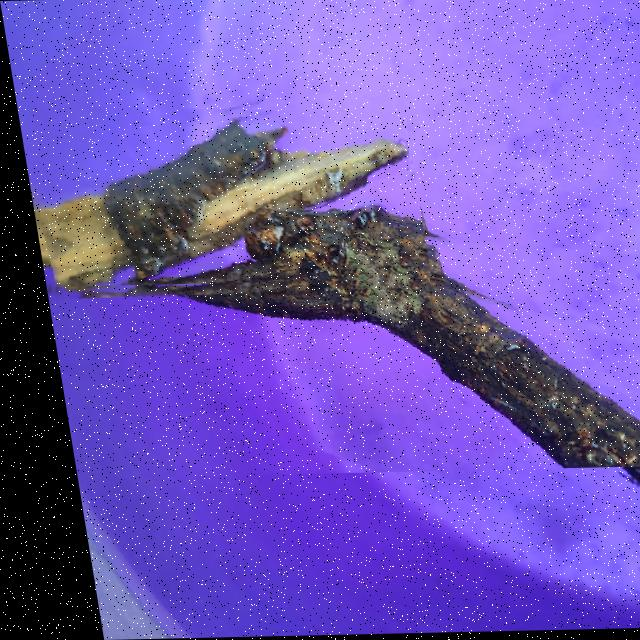wood: (26, 191, 640, 478), (13, 97, 422, 286)
